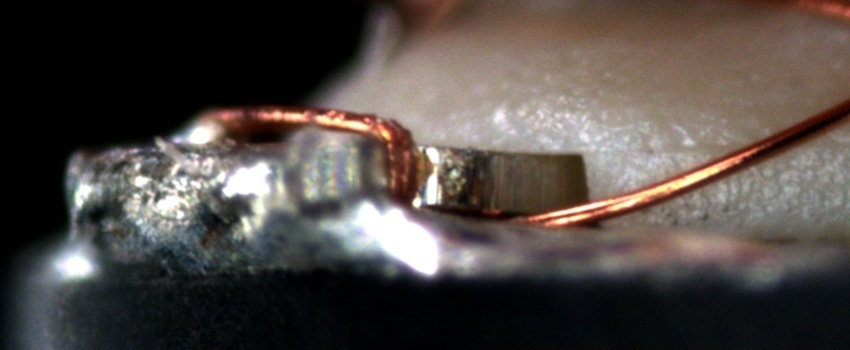DL: (625, 116, 849, 180)
TE: (187, 106, 424, 209)
